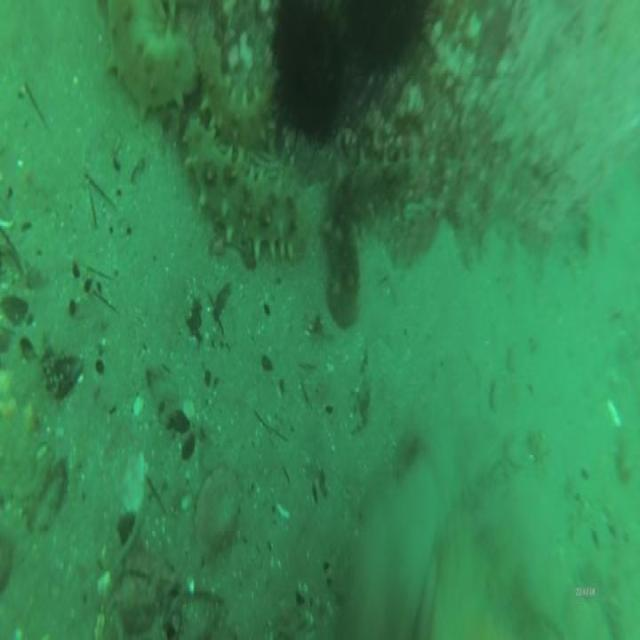echinus: (266, 0, 346, 153), (331, 0, 434, 88)
holothurian: (182, 117, 302, 272), (322, 152, 421, 330), (193, 22, 286, 158), (103, 0, 198, 114)
